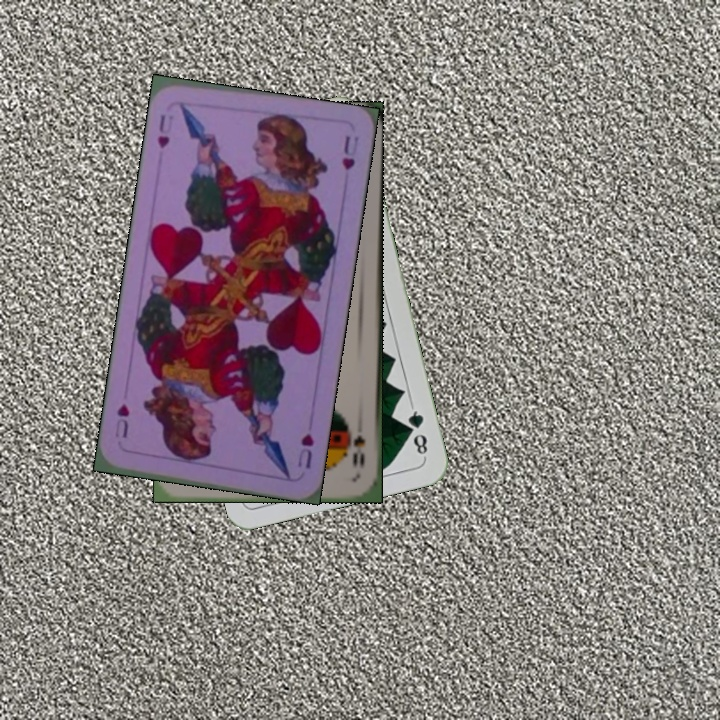G8: (403, 402, 430, 460)
HU: (293, 429, 316, 471), (153, 110, 176, 151)
SO: (346, 425, 367, 471)
